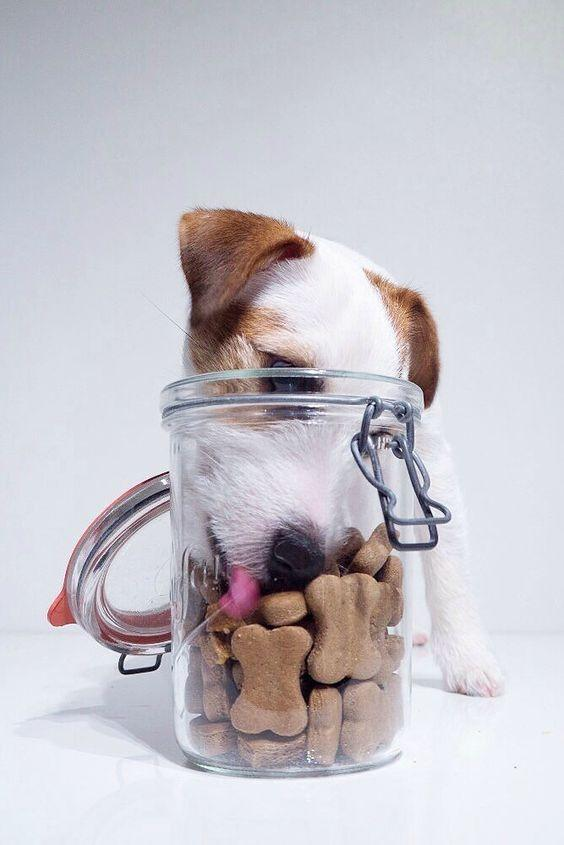puppy-dog: (171, 207, 504, 707)
